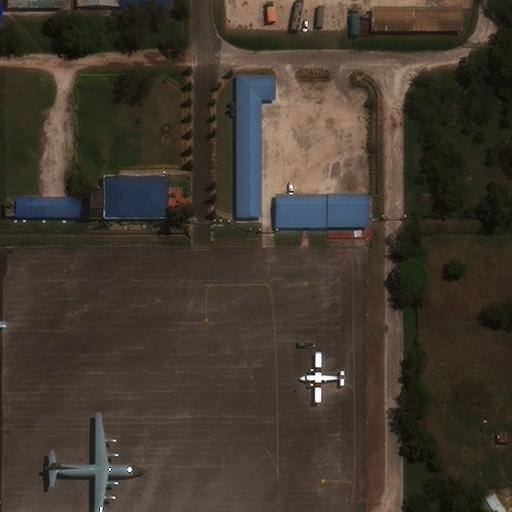Medium Civil Transport: (299, 352, 346, 403)
Military Transport: (44, 413, 147, 511)
